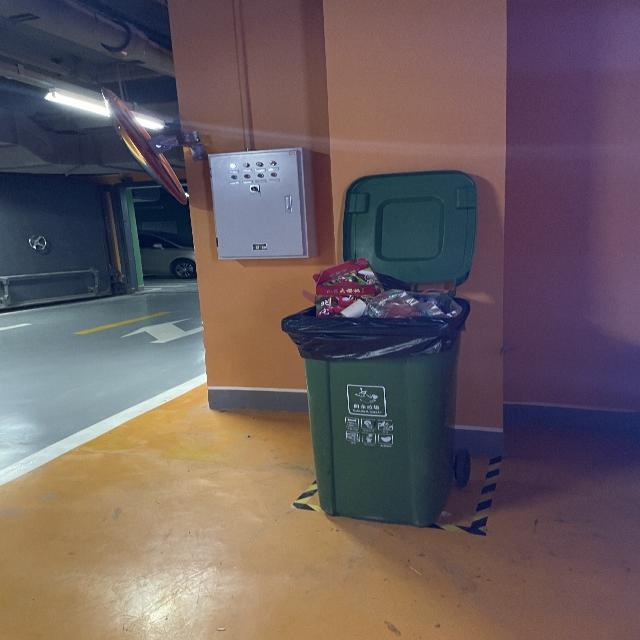overflow: (282, 258, 470, 525)
